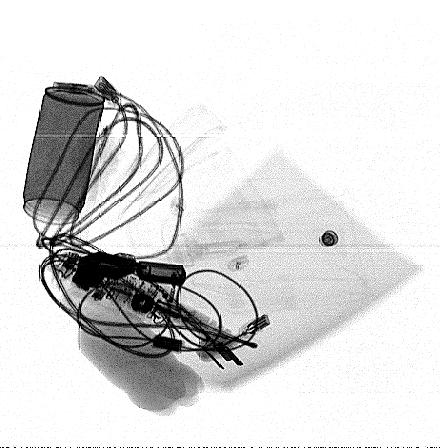Lighter: (77, 251, 188, 288)
